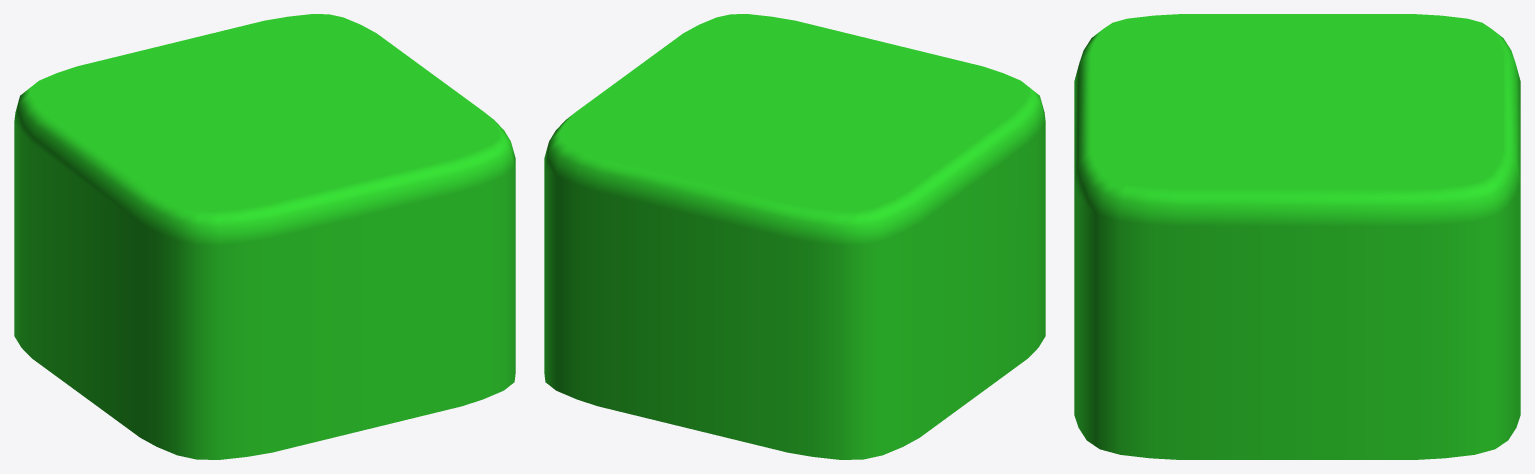
File: ContainerLockedSingle.fbx
The picture shows the model from 3 angles, left to right: view 1: azimuth 30°, elevation 25°; view 2: azimuth 150°, elevation 25°; view 3: azimuth 270°, elevation 25°; orthographic projection. The views are drawn at different scales.
Parts seen in each view (by area): view 1: ContainerLockedSingle; view 2: ContainerLockedSingle; view 3: ContainerLockedSingle.
Boxes of the visible parts, x1,y1,x2,y2 form: ContainerLockedSingle: (14,14,515,459); ContainerLockedSingle: (544,14,1045,459); ContainerLockedSingle: (1074,14,1520,459).
Size of the model in its own units: 43.74 by 28.23 by 43.37.
